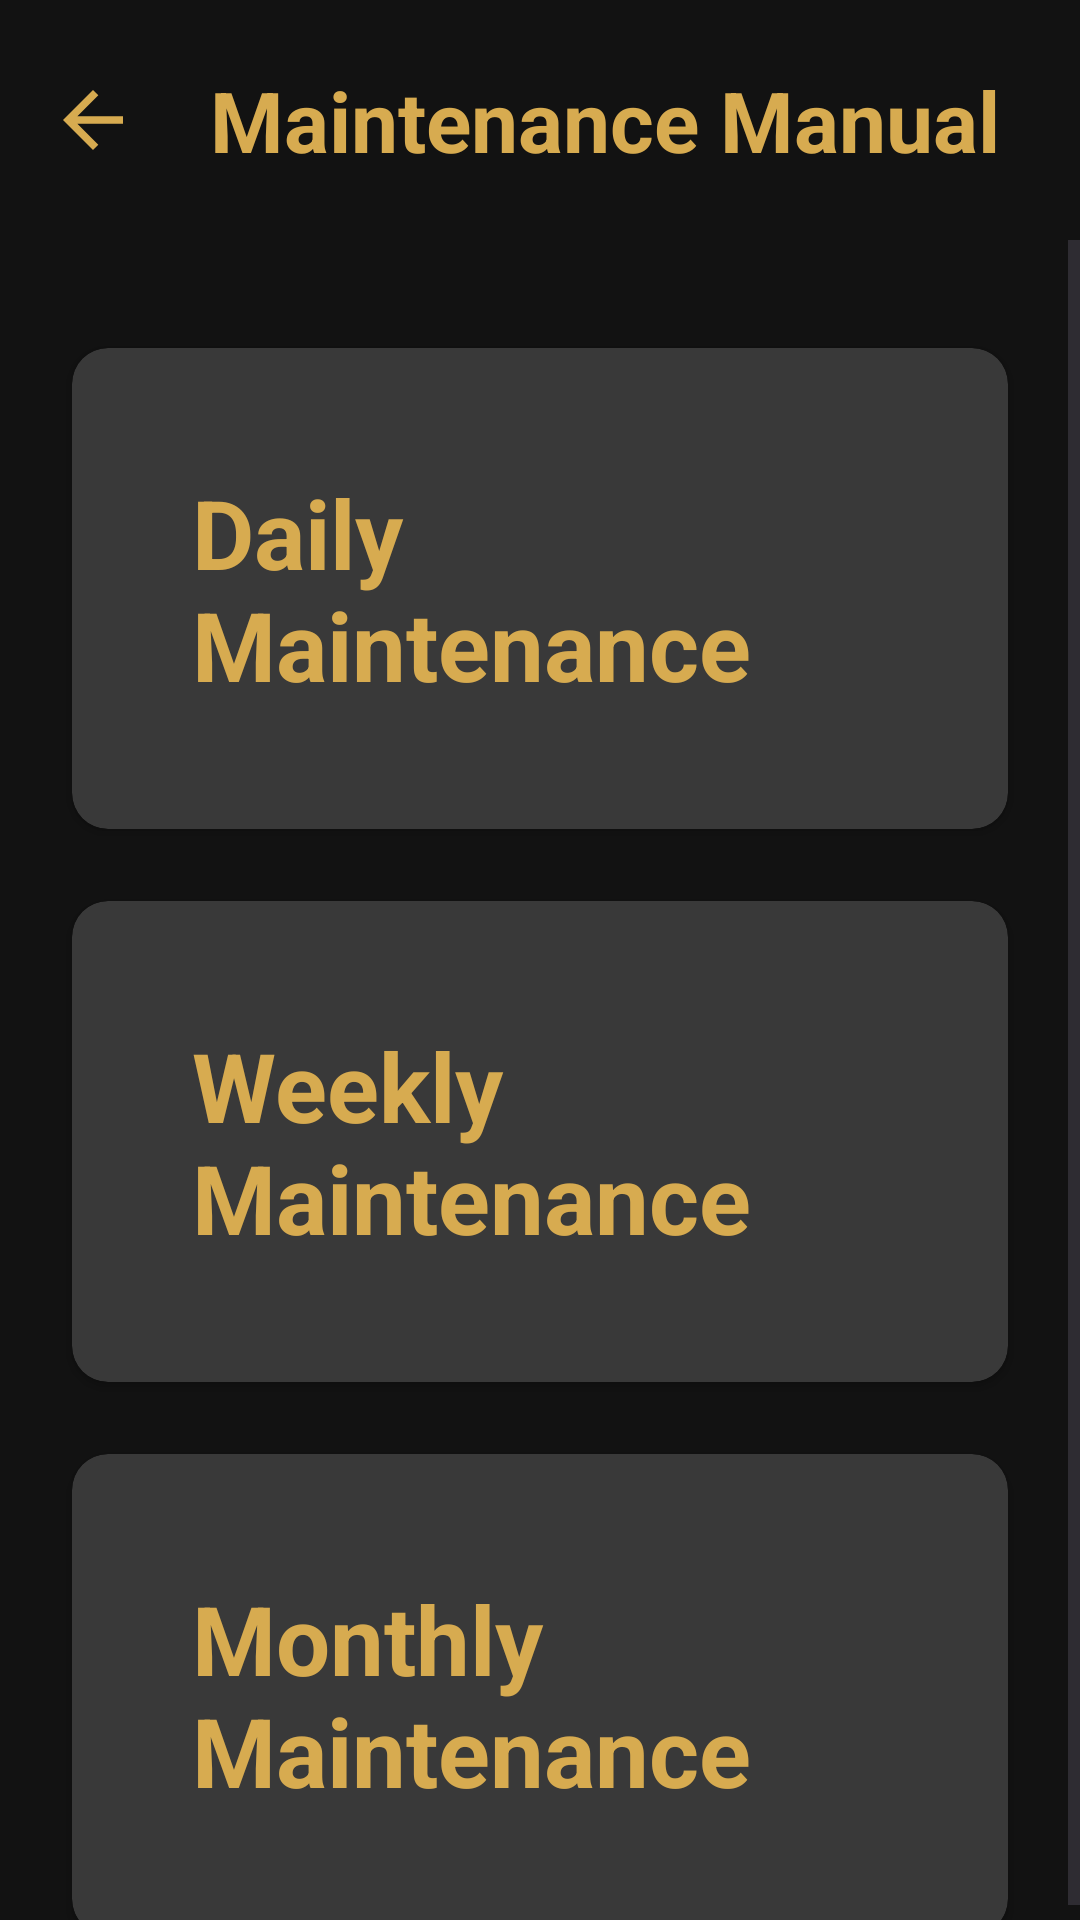

Point at icon controls on the screen. Image size 1080x1920, points as (x,y).
arrow back: (93,120)
